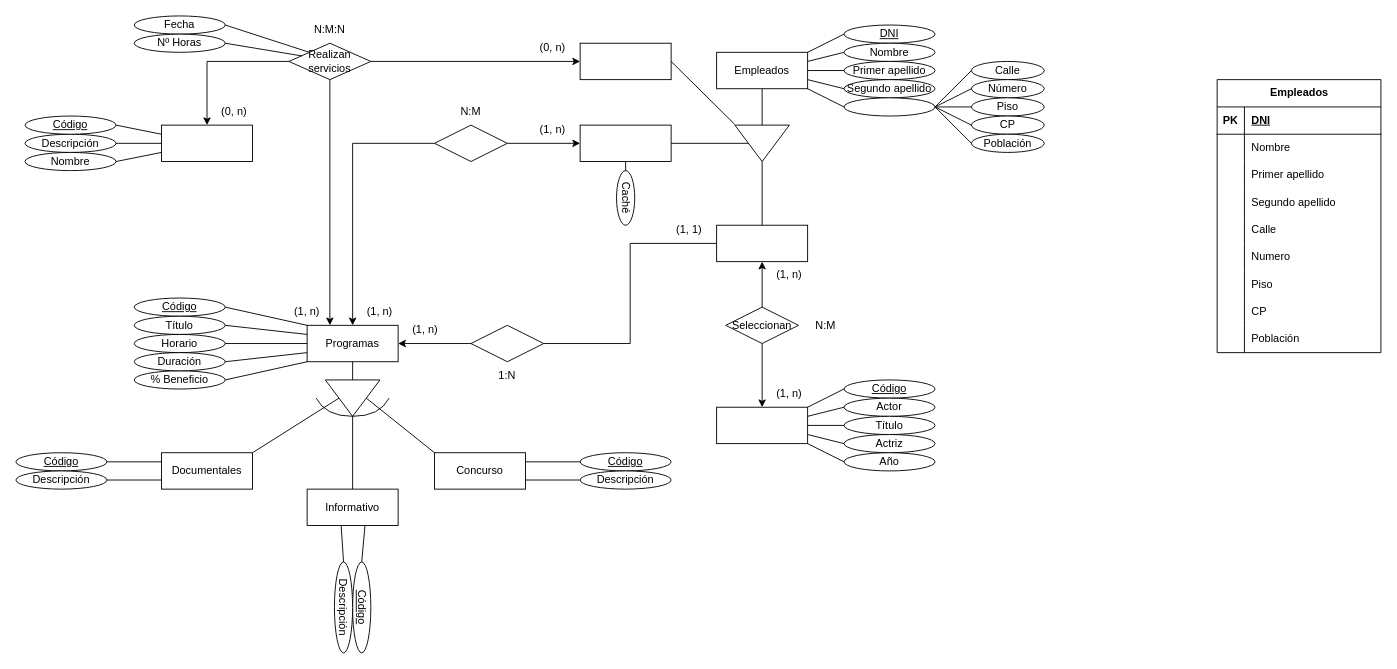
This 1397x669 diagram has some shape labels left out. Here are the shapes that lost their labels. From the top down, the box of each, then its label:
(579, 42, 671, 80): Mantenimiento
(843, 97, 935, 116): Dirección
(161, 124, 253, 162): Servicios
(434, 124, 507, 162): Presentan
(579, 124, 671, 162): Presentadores
(716, 224, 808, 262): Directores
(470, 324, 544, 362): Dirigen
(716, 406, 808, 444): Películas
